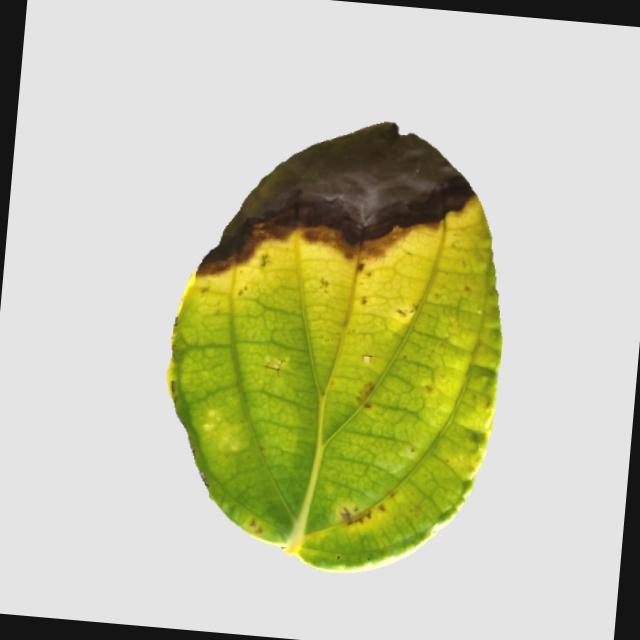leaf-blight: (137, 106, 530, 581)
